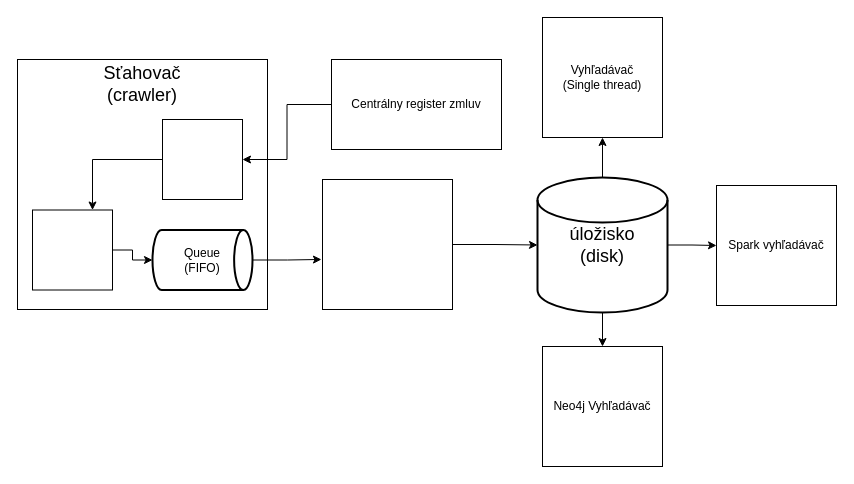
Some shapes in this 854 by 484 pixel diagram are drawn without their labels. Each missing label, with the centre of its shape:
"Deduplikačný modul" belongs at (x=72, y=249).
"Parser zmluv" belongs at (x=387, y=244).
"Scrapy crawler" belongs at (x=202, y=159).
